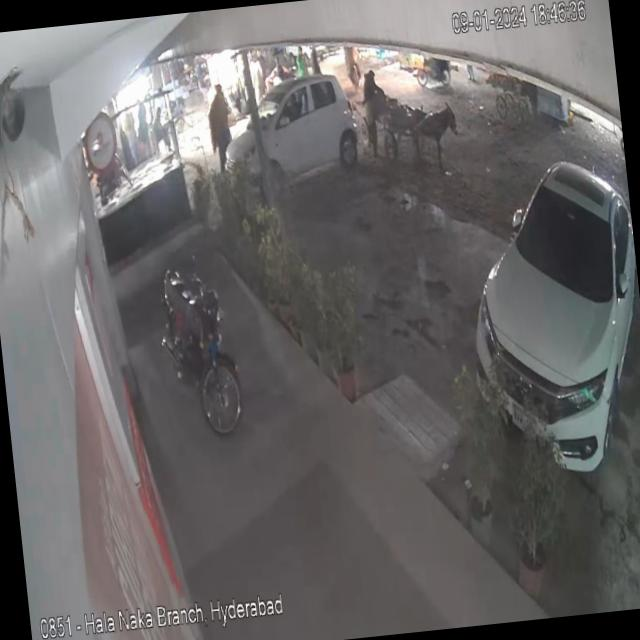Car: (452, 137, 640, 500), (217, 70, 381, 205)
